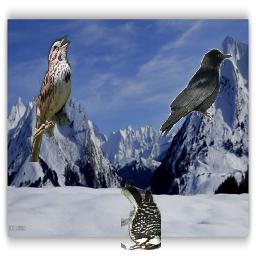Crow: (160, 48, 233, 138)
Sparrow: (29, 36, 71, 163)
Woodpecker: (121, 180, 161, 251)
